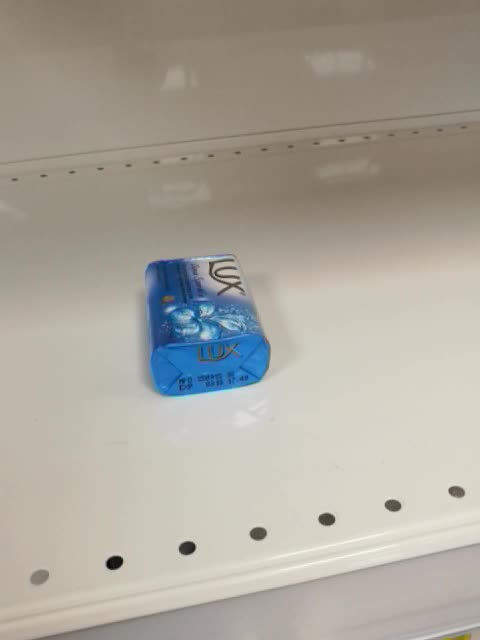soap: (142, 250, 273, 398)
